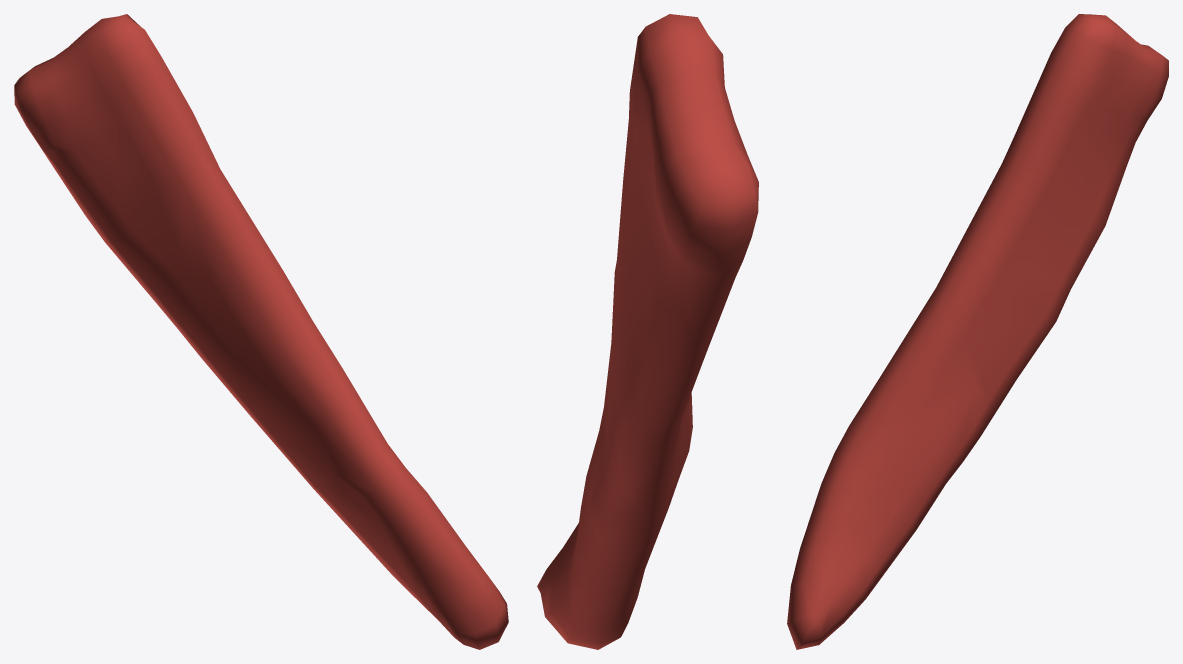
The model's file is musculos-tendon-sheath-abd-pollicis-longus-ext-pollicis-brevis-l.glb.
3 views of the same model, side by side, from view 1: azimuth 30°, elevation 25°; view 2: azimuth 150°, elevation 25°; view 3: azimuth 270°, elevation 25° (orthographic). The views are drawn at different scales.
Parts seen in each view (by area): view 1: Tendon sheath - abd. pollicis longus - ext. pollicis brevis.; view 2: Tendon sheath - abd. pollicis longus - ext. pollicis brevis.; view 3: Tendon sheath - abd. pollicis longus - ext. pollicis brevis..
Part boxes in pixels (x1,y1,x2,y2): Tendon sheath - abd. pollicis longus - ext. pollicis brevis.: (14, 14, 508, 649); Tendon sheath - abd. pollicis longus - ext. pollicis brevis.: (537, 14, 758, 649); Tendon sheath - abd. pollicis longus - ext. pollicis brevis.: (787, 14, 1168, 649).
Size of the model in its own units: 0.0285 by 0.0492 by 0.0317.
